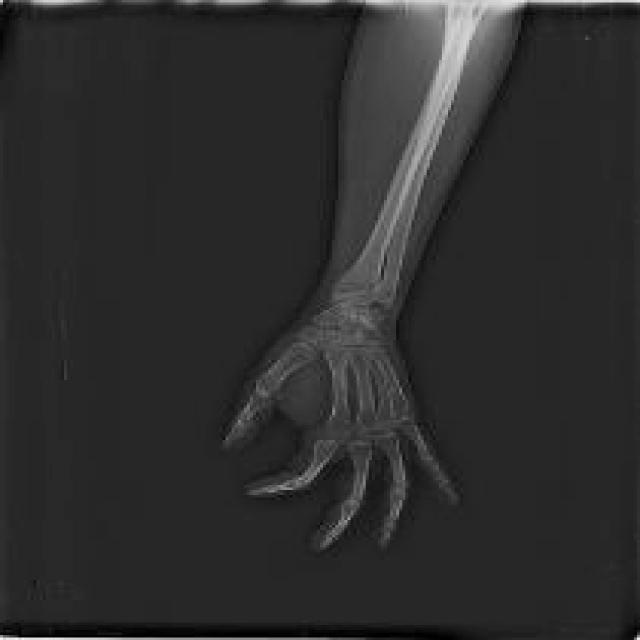normal: (221, 4, 487, 548)
